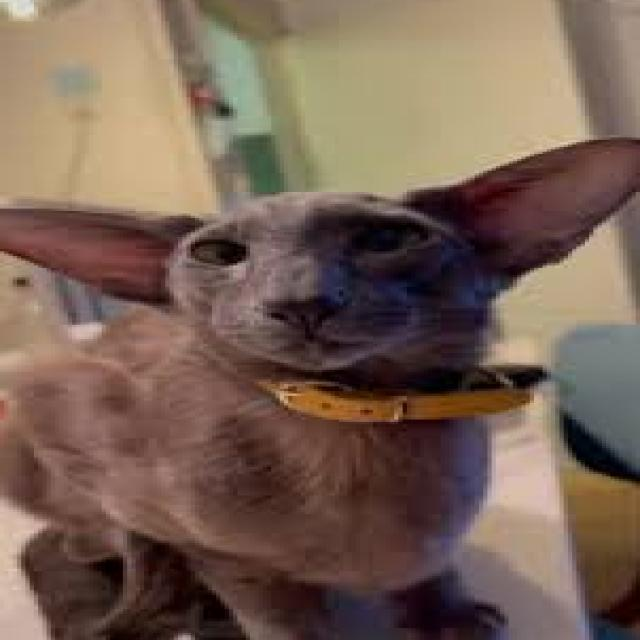Oriental: (0, 130, 640, 640)
